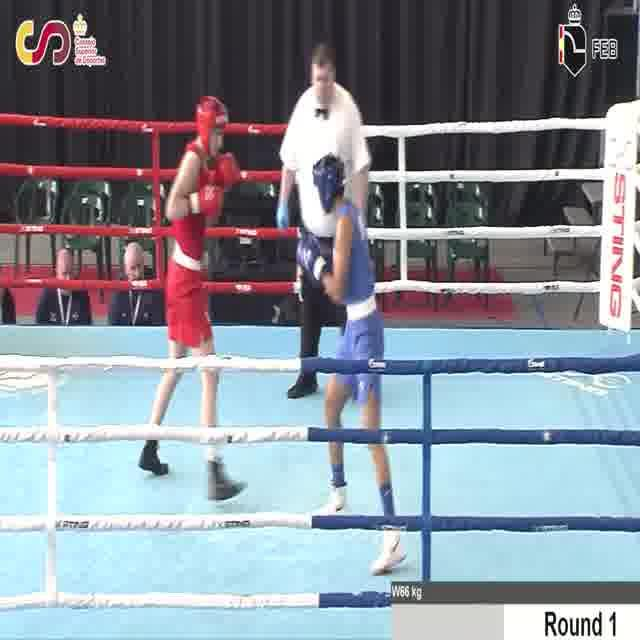blue-player: (294, 147, 410, 578)
red-player: (134, 93, 250, 507)
referee: (274, 38, 374, 405)
